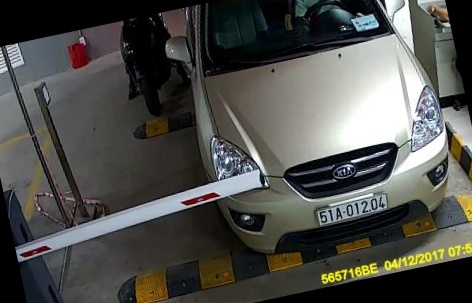plate: (312, 181, 392, 236)
